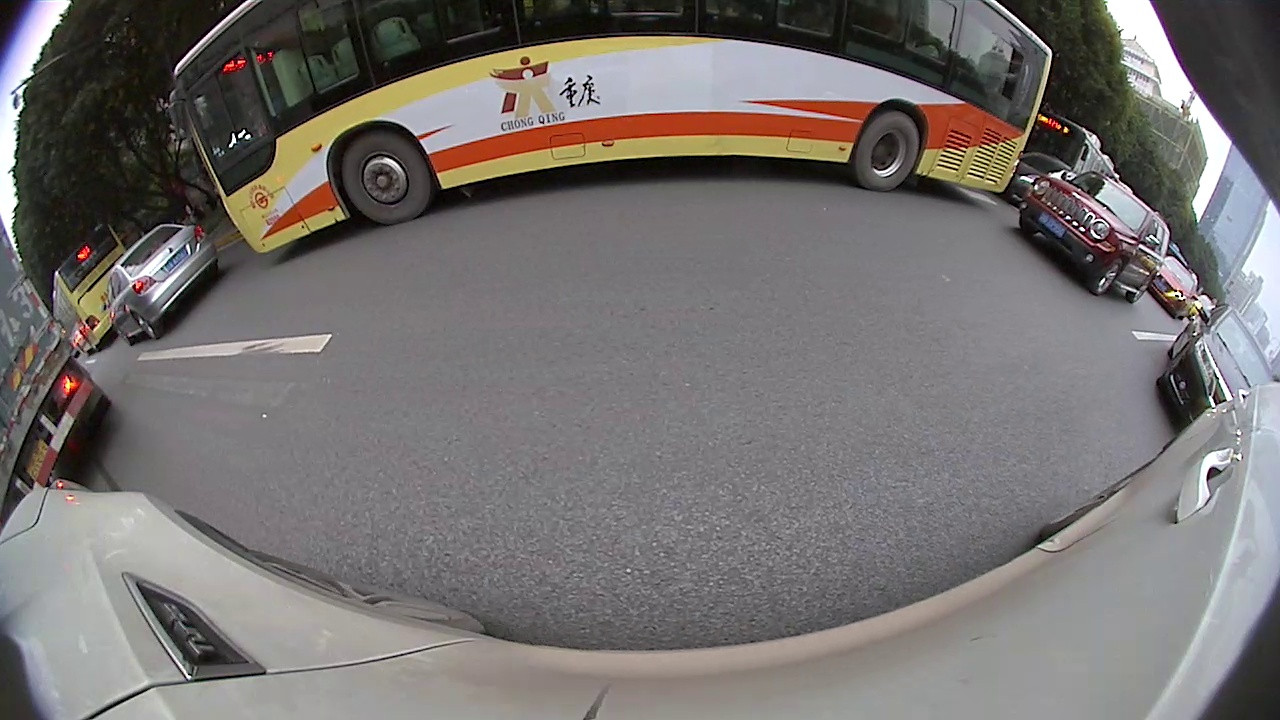bus: (172, 3, 1056, 258), (49, 222, 134, 356), (1010, 111, 1130, 199)
car: (1020, 168, 1172, 303), (1154, 301, 1278, 429), (103, 220, 221, 342), (1150, 254, 1203, 320)
front: (336, 130, 433, 226), (1090, 257, 1125, 296)
rear: (852, 109, 924, 194), (132, 310, 161, 341), (1128, 275, 1155, 306)
truck: (1, 213, 108, 533)
